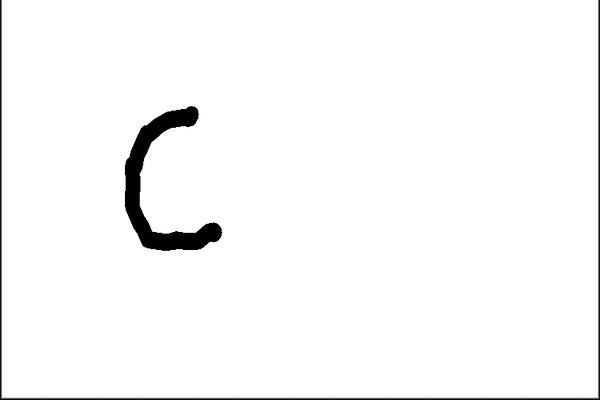C: (117, 98, 226, 254)
